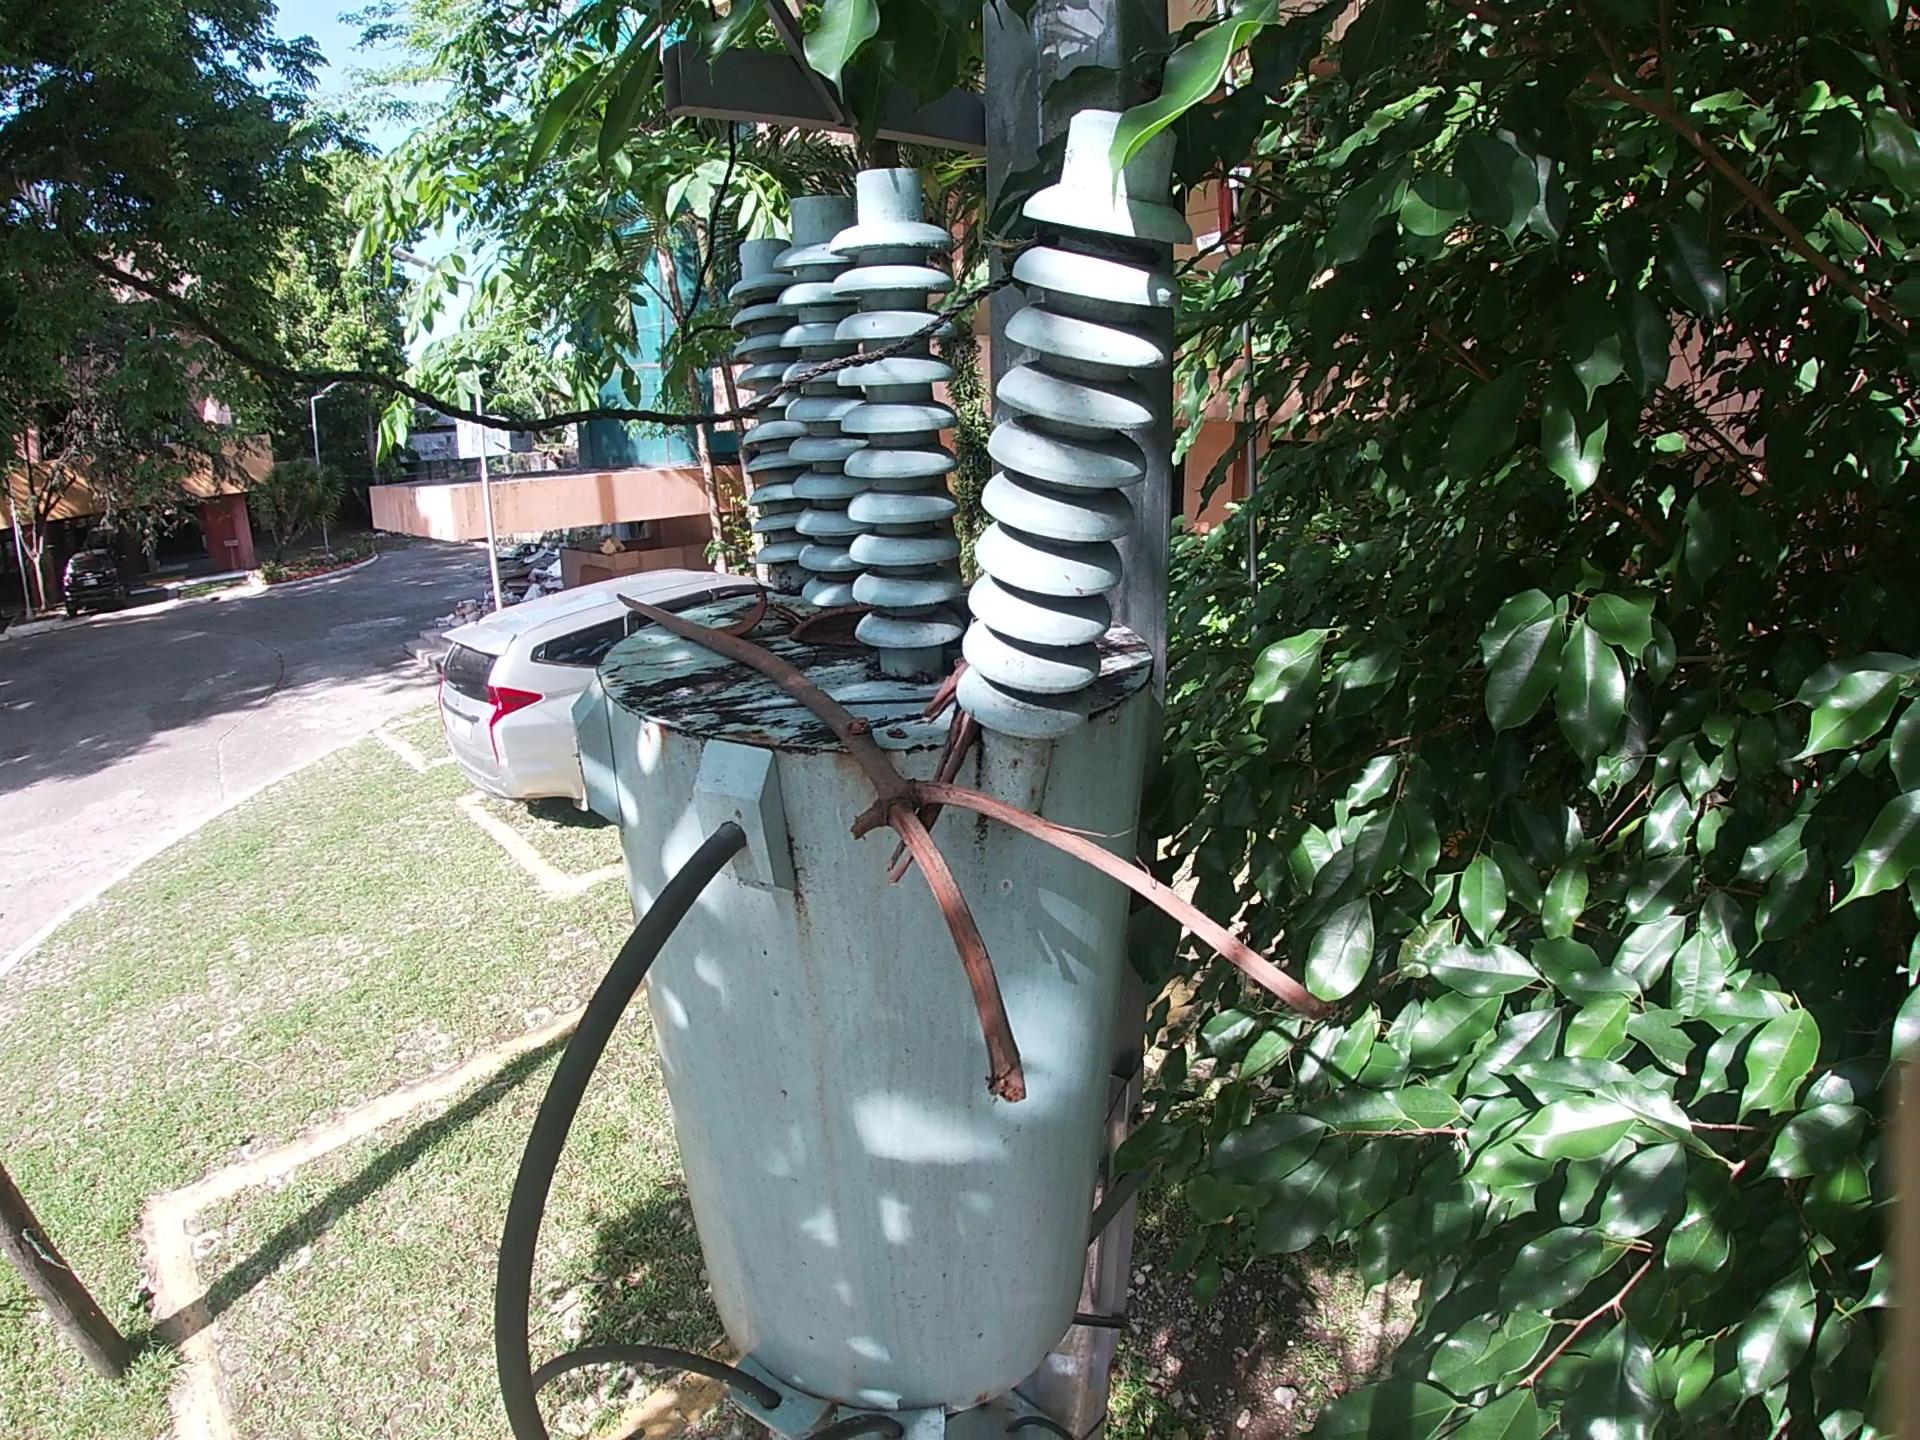mahogany fruit: (788, 597, 874, 646), (703, 587, 774, 632)
tree branch: (611, 591, 1346, 1137), (875, 717, 972, 888), (912, 656, 966, 732)
